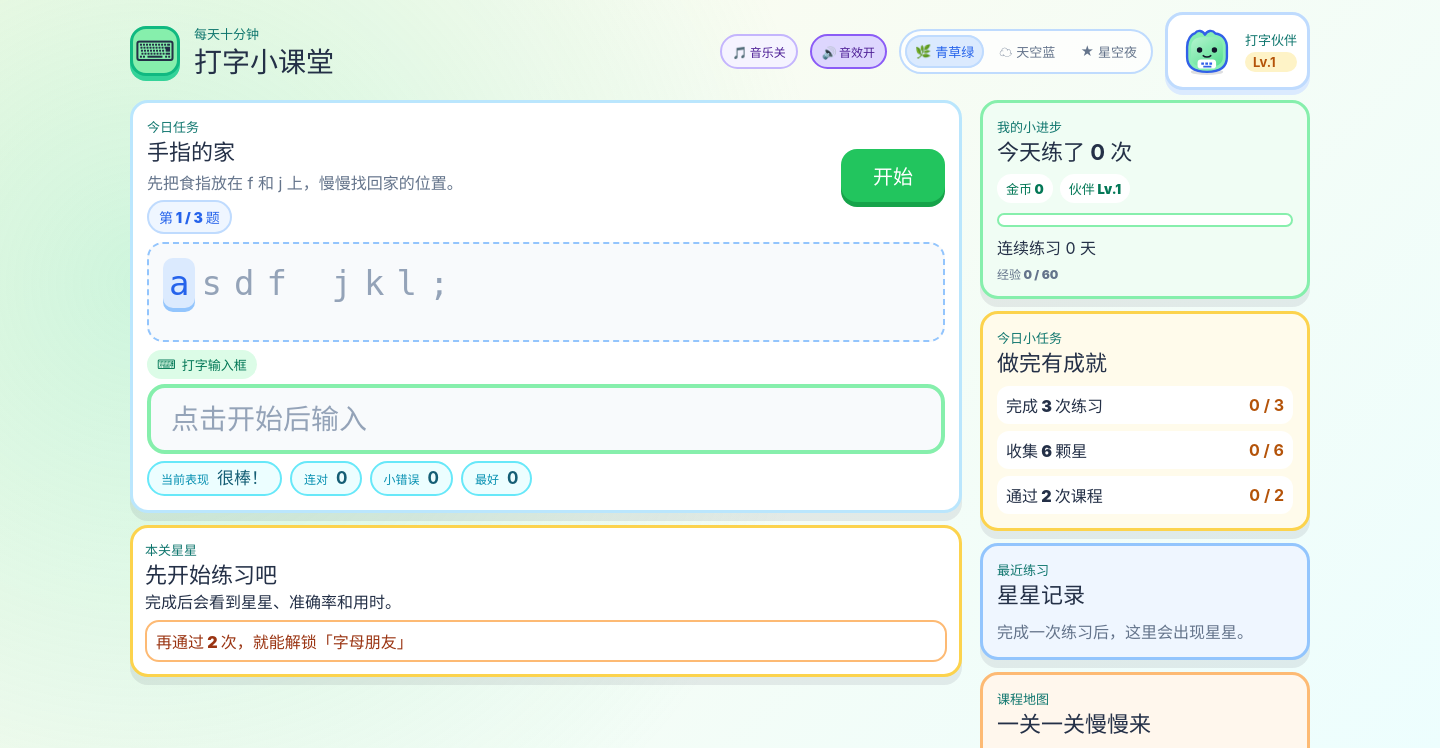
Test: App › lets a beginner complete the first typing lesson and saves history
The width and height of the screenshot is (1440, 748).
Expected: the heading "打字小课堂" is shown, [194,47,334,78]
Expected: the text "再通过 2 次，就能解锁「字母朋友」" is shown, [145,620,947,662]
Click the button "开始" at (893, 176), box [841,149,945,202]
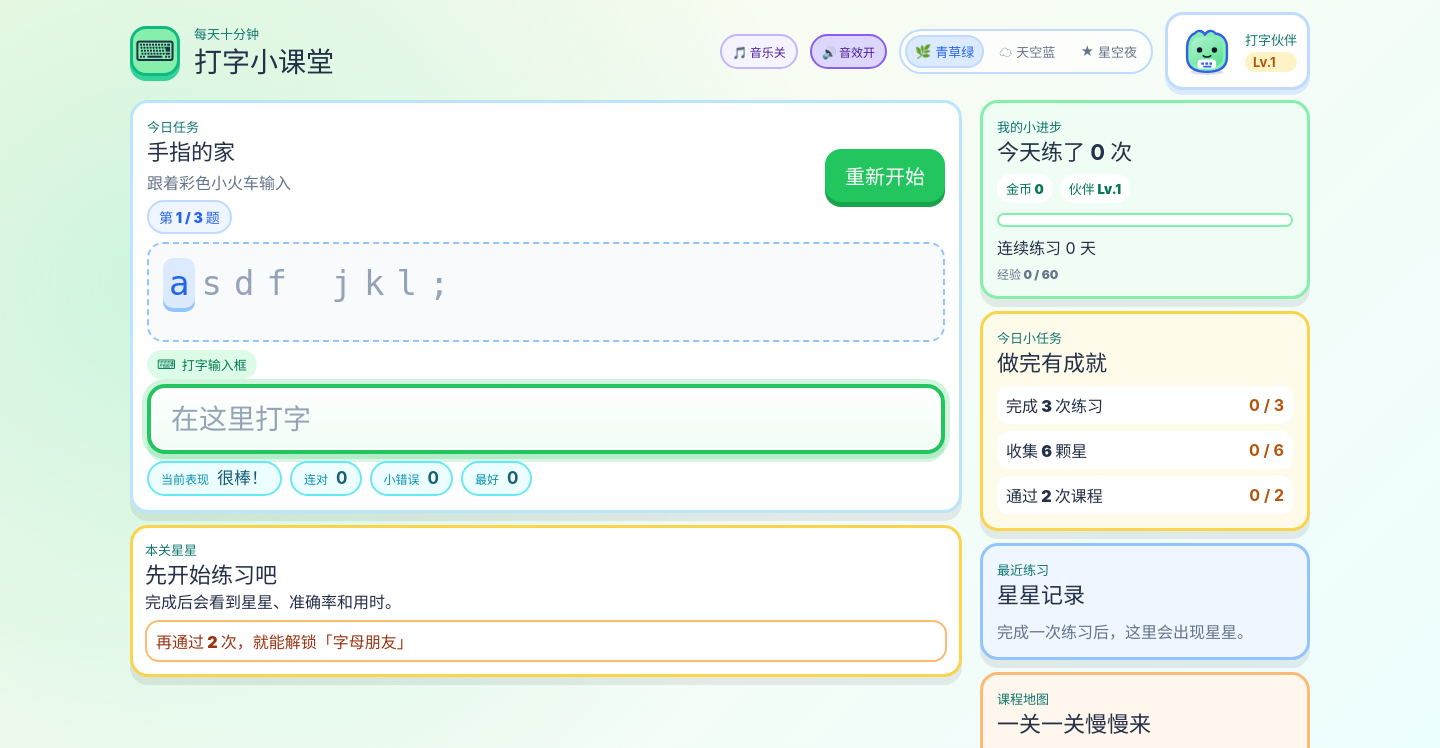
Type "asdf jkl;" into the field labelled "打字输入框" at (546, 419), box [147,384,945,454]
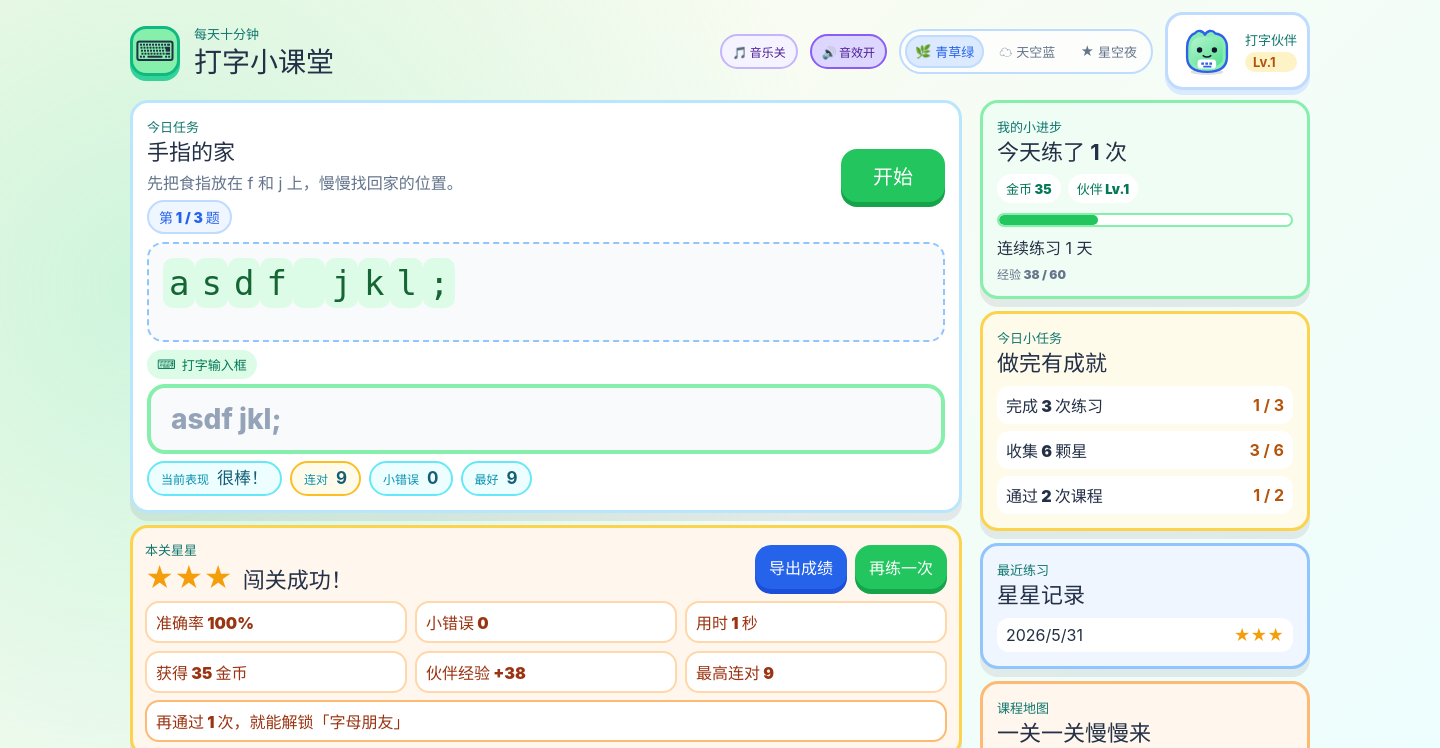
Expected: the text "准确率 100%" is shown, [145,601,407,643]
Expected: the text "再通过 1 次，就能解锁「字母朋友」" is shown, [145,700,947,742]
Expected: the text "获得 35 金币" is shown, [145,651,407,693]
